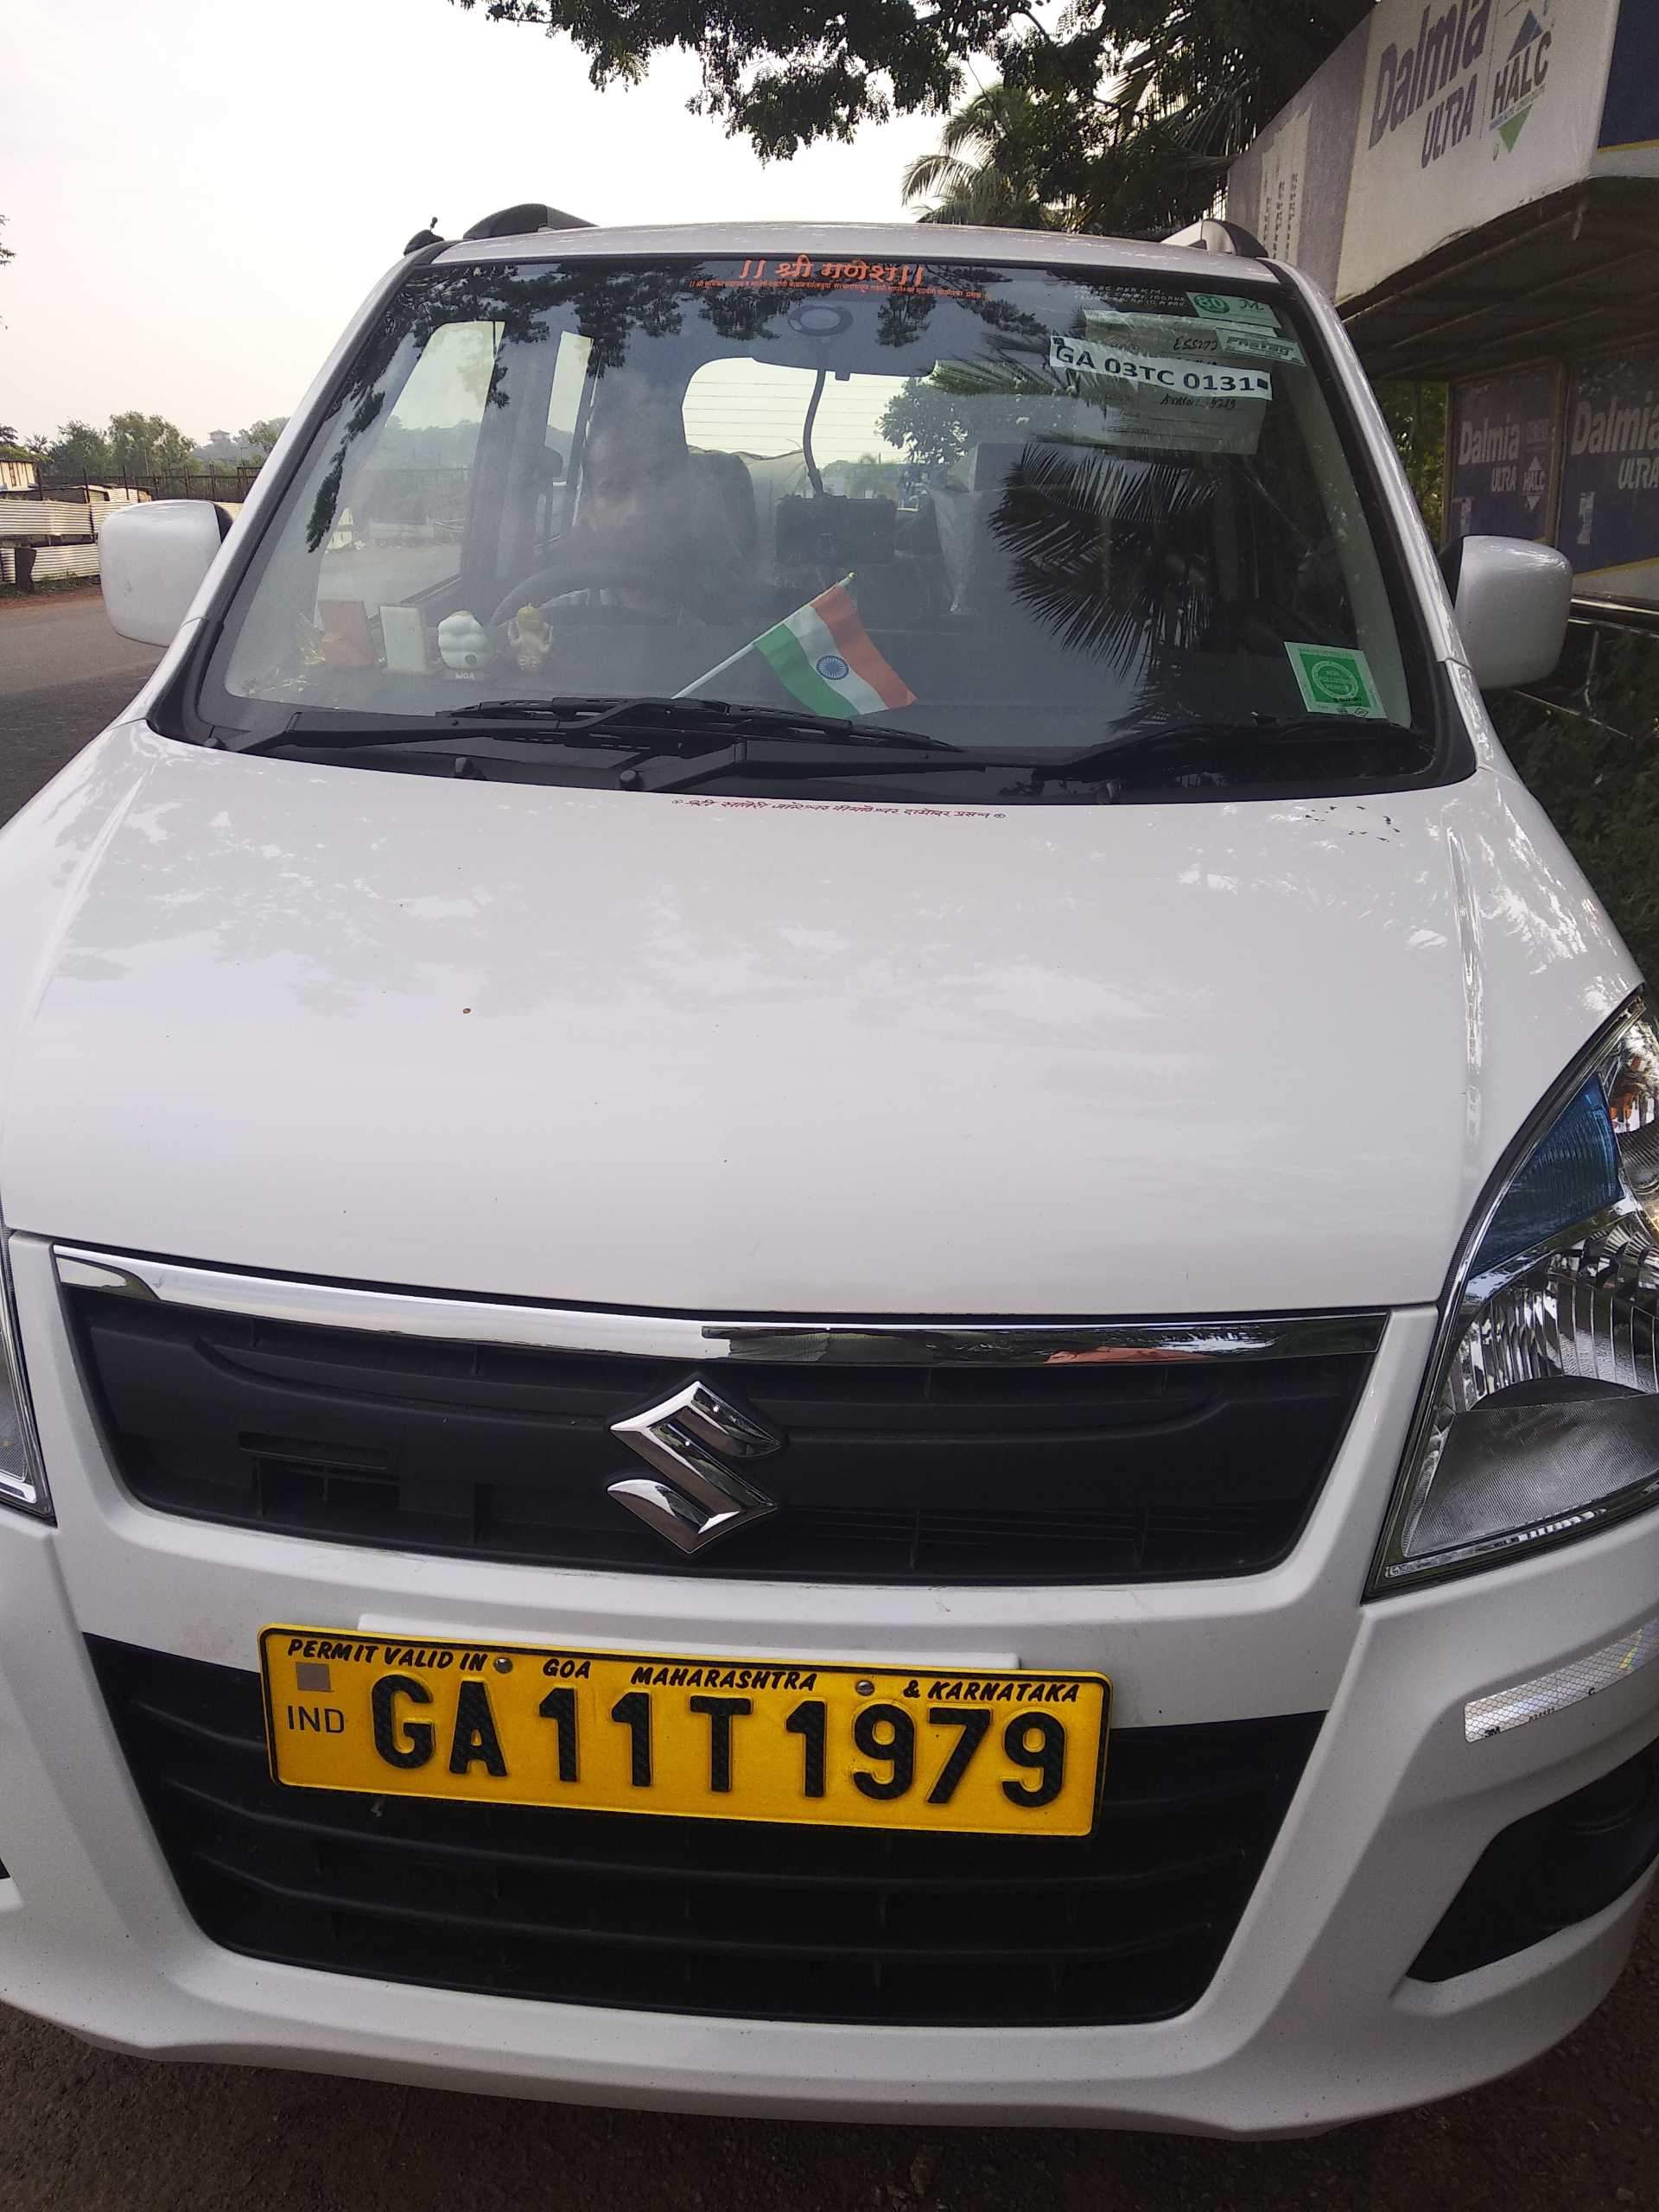numberplate: (252, 1618, 1106, 1859)
